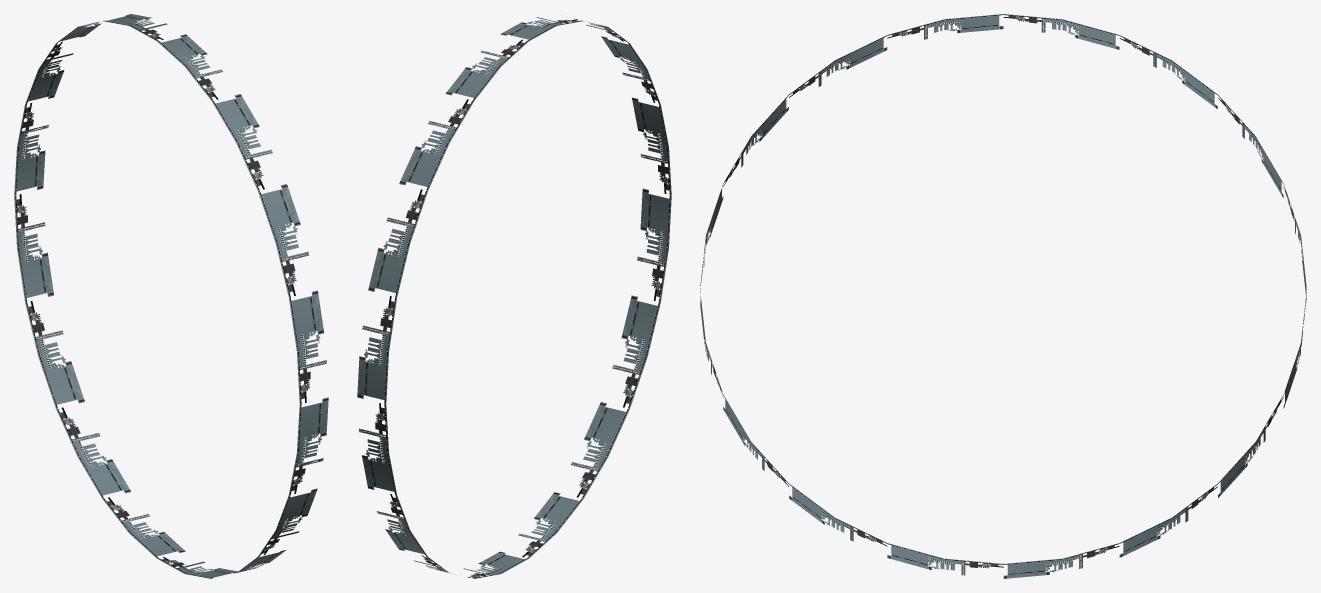
File: fensu2_plasma.obj
The picture shows the model from 3 angles, left to right: view 1: azimuth 30°, elevation 25°; view 2: azimuth 150°, elevation 25°; view 3: azimuth 270°, elevation 25°; orthographic projection. The views are drawn at different scales.
Visible parts, largest first — view 1: Plasma; view 2: Plasma; view 3: Plasma.
Boxes of the visible parts, x1,y1,x2,y2 form: Plasma: (14, 14, 328, 578); Plasma: (357, 17, 671, 578); Plasma: (700, 14, 1306, 578).
Size of the model in its own units: 0.5 by 8.5 by 8.5.
